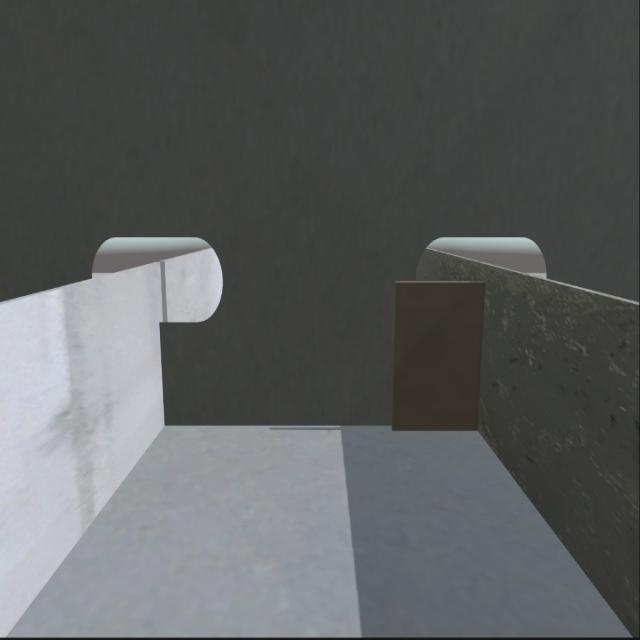fillet_yong_jeop_jang: (148, 418, 485, 434)
longi_yong_jeop_jang: (473, 273, 489, 444), (154, 318, 173, 426)
plate_CP01: (390, 282, 484, 436)
